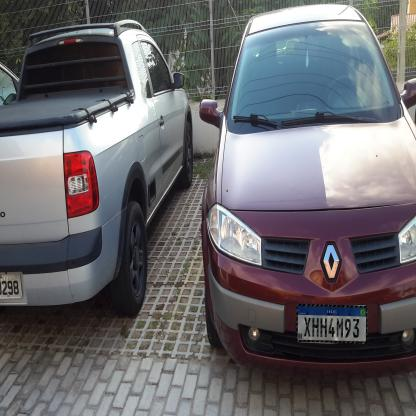PlacaM: (297, 304, 368, 344)
